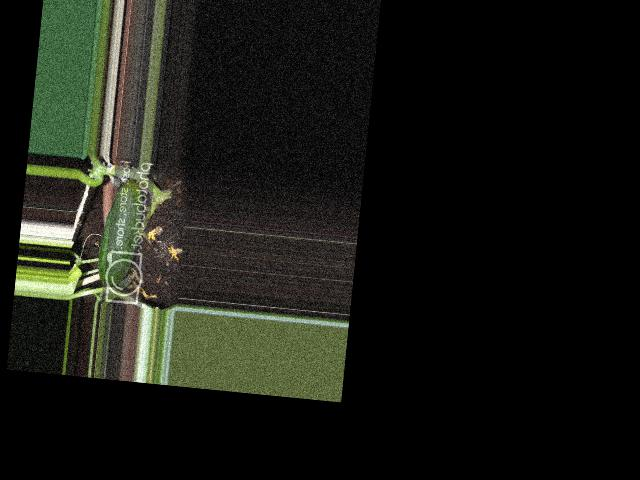cucumber: (96, 178, 146, 288)
